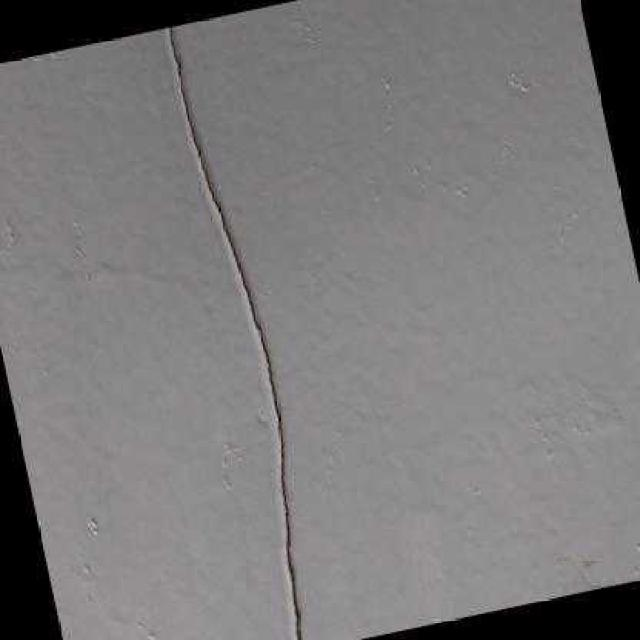D00: (165, 25, 299, 640)
